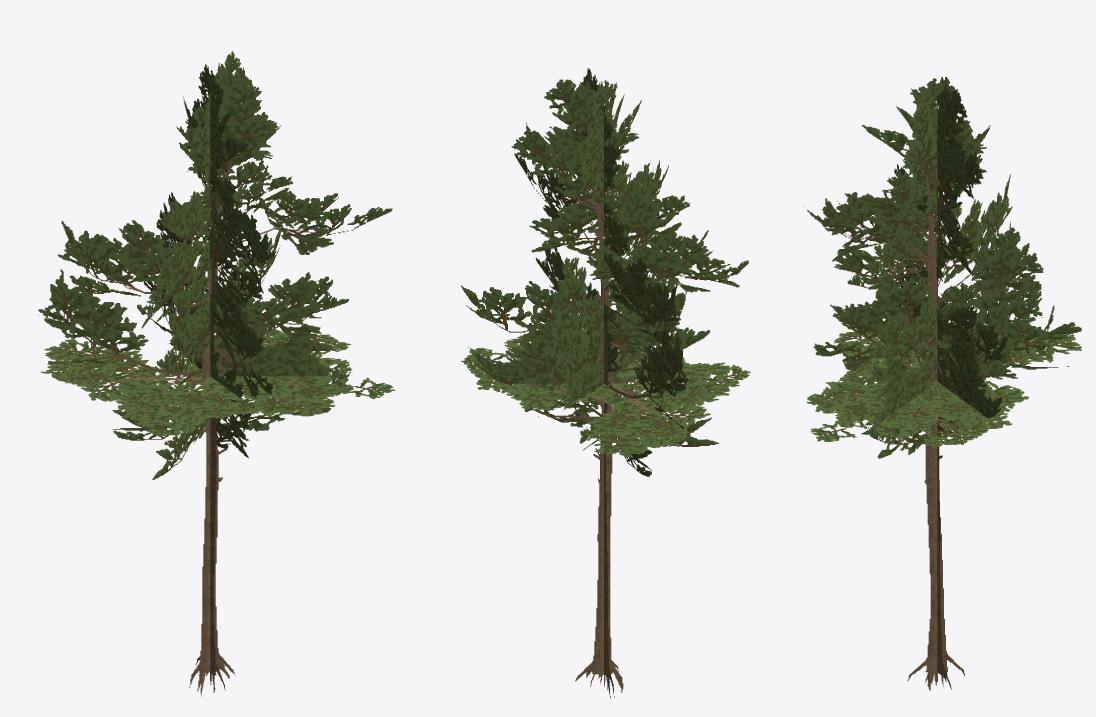
The picture shows the model from 3 angles, left to right: view 1: azimuth 30°, elevation 25°; view 2: azimuth 150°, elevation 25°; view 3: azimuth 270°, elevation 25°; orthographic projection.
Parts seen in each view (by area): view 1: Pine_big_3_Billboard_LOD3_Pine_big_3_Billboard_Mat_0; view 2: Pine_big_3_Billboard_LOD3_Pine_big_3_Billboard_Mat_0; view 3: Pine_big_3_Billboard_LOD3_Pine_big_3_Billboard_Mat_0.
Part boxes in pixels (x1,y1,x2,y2): Pine_big_3_Billboard_LOD3_Pine_big_3_Billboard_Mat_0: [38, 51, 395, 696]; Pine_big_3_Billboard_LOD3_Pine_big_3_Billboard_Mat_0: [461, 68, 750, 697]; Pine_big_3_Billboard_LOD3_Pine_big_3_Billboard_Mat_0: [803, 77, 1081, 690].
Size of the model in its own units: 8.84 by 19.42 by 8.03.
